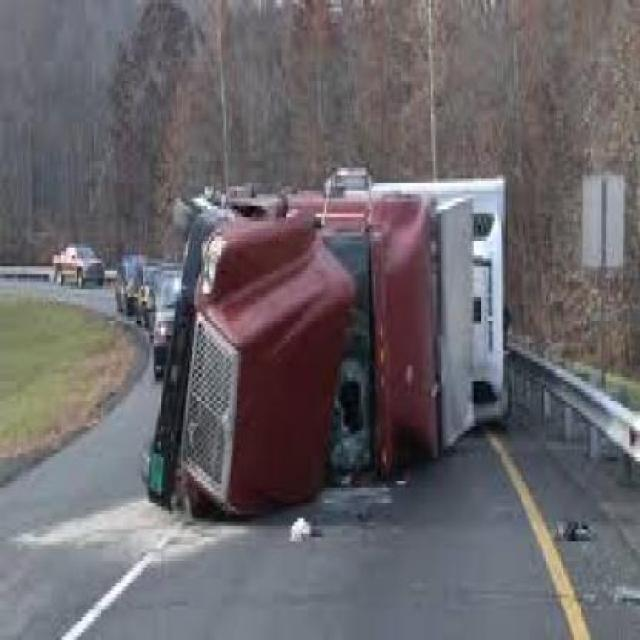accident: (126, 125, 542, 546)
